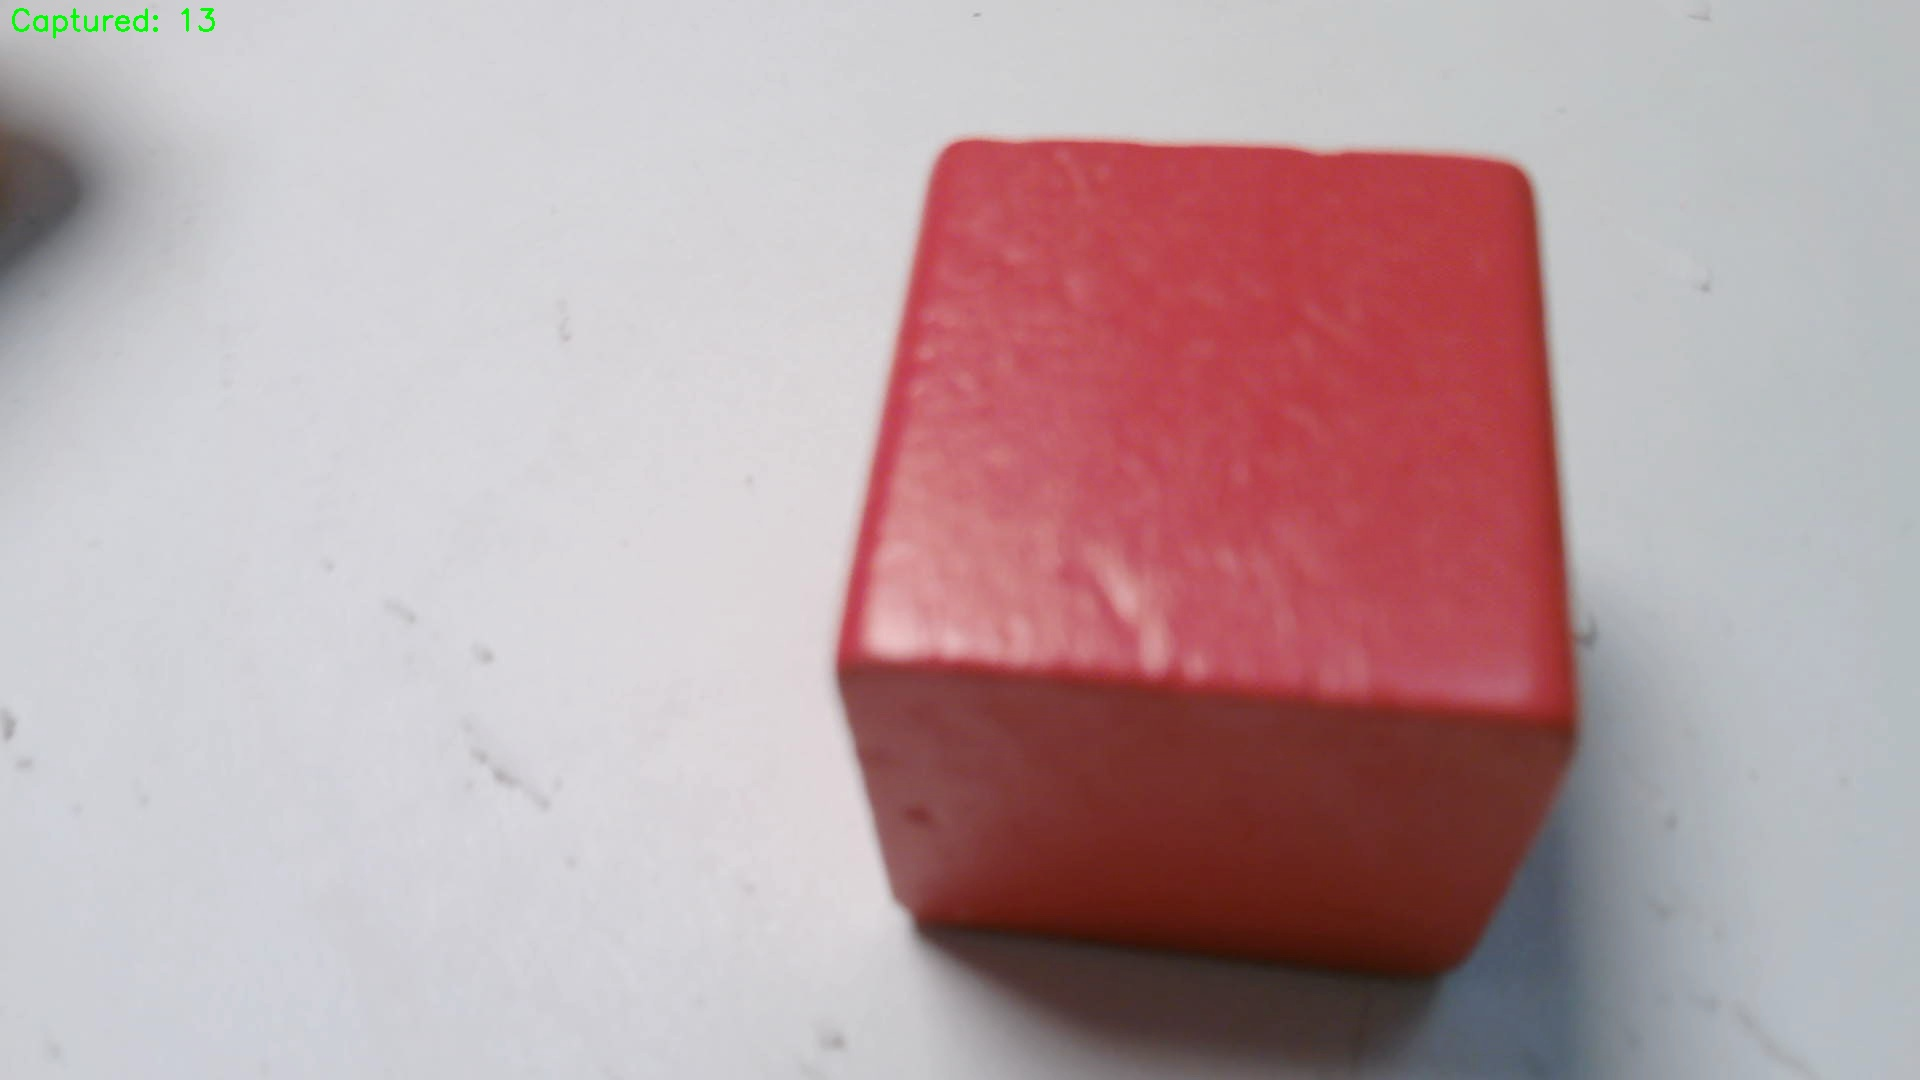red: (832, 140, 1578, 985)
